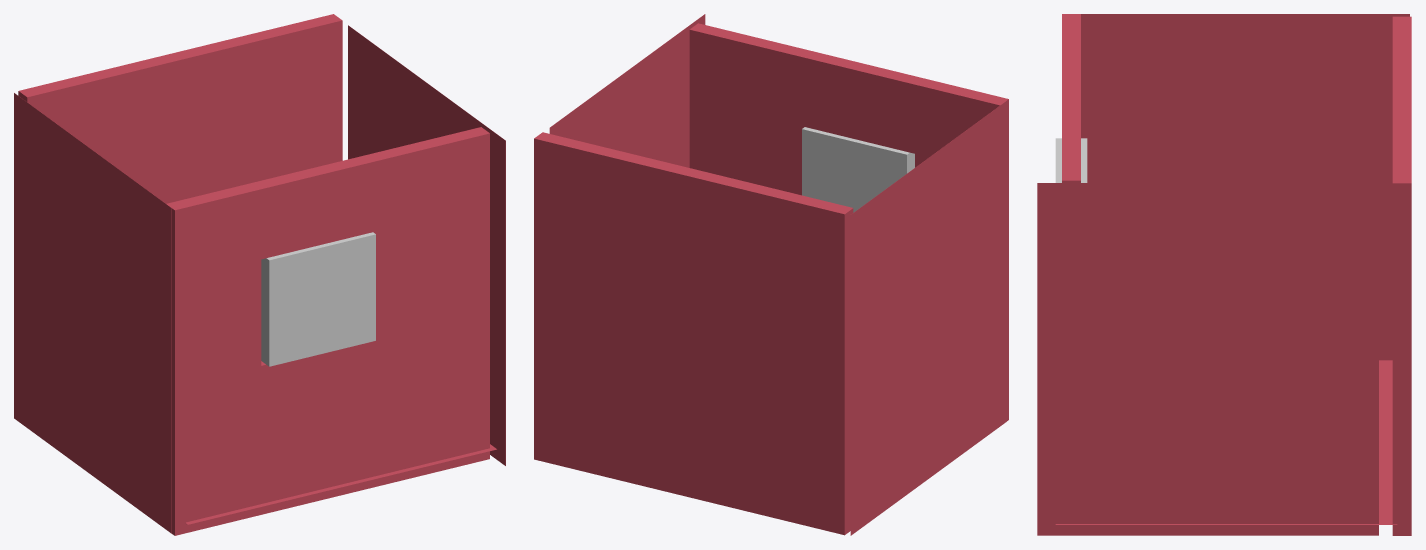
The model's file is Window_Room.glb.
3 renders of one model, left to right at view 1: azimuth 30°, elevation 25°; view 2: azimuth 150°, elevation 25°; view 3: azimuth 270°, elevation 25°, orthographic. The views are drawn at different scales.
Parts seen in each view (by area): view 1: Mesh_Mesh_head_geo.001_lambert2SG.001; view 2: Mesh_Mesh_head_geo.001_lambert2SG.001; view 3: Mesh_Mesh_head_geo.001_lambert2SG.001.
Boxes of the visible parts, x1,y1,x2,y2 form: Mesh_Mesh_head_geo.001_lambert2SG.001: (14,14,505,535); Mesh_Mesh_head_geo.001_lambert2SG.001: (534,14,1008,535); Mesh_Mesh_head_geo.001_lambert2SG.001: (1037,14,1411,535).
Size of the model in its own units: 0.2007 by 0.1943 by 0.1869.
